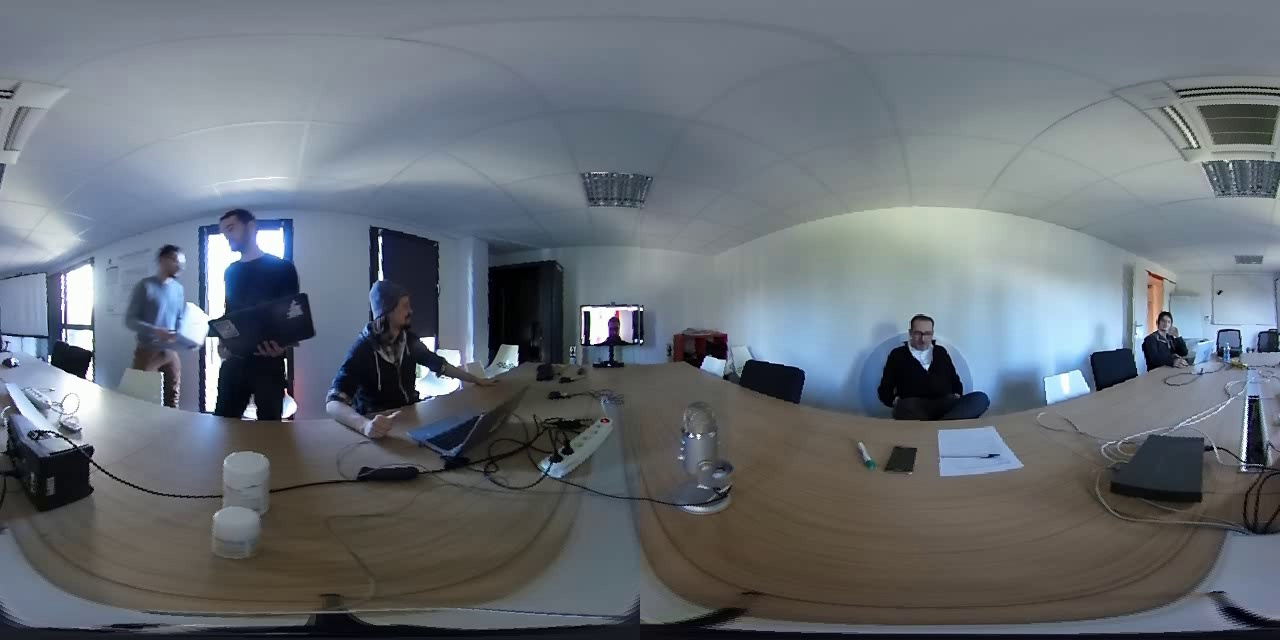person: (191, 195, 338, 391), (335, 274, 449, 424), (865, 306, 988, 424), (125, 224, 199, 374), (1143, 301, 1194, 371), (583, 306, 637, 346)
